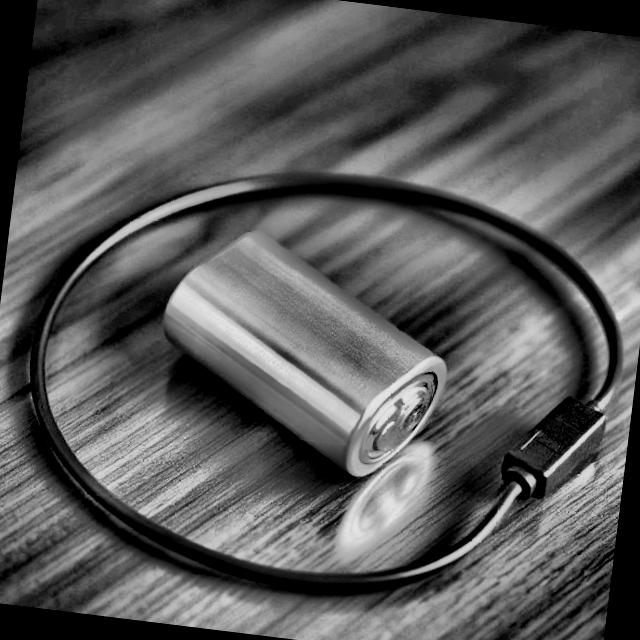Battery: (161, 226, 451, 473)
Cable: (0, 125, 640, 635)
